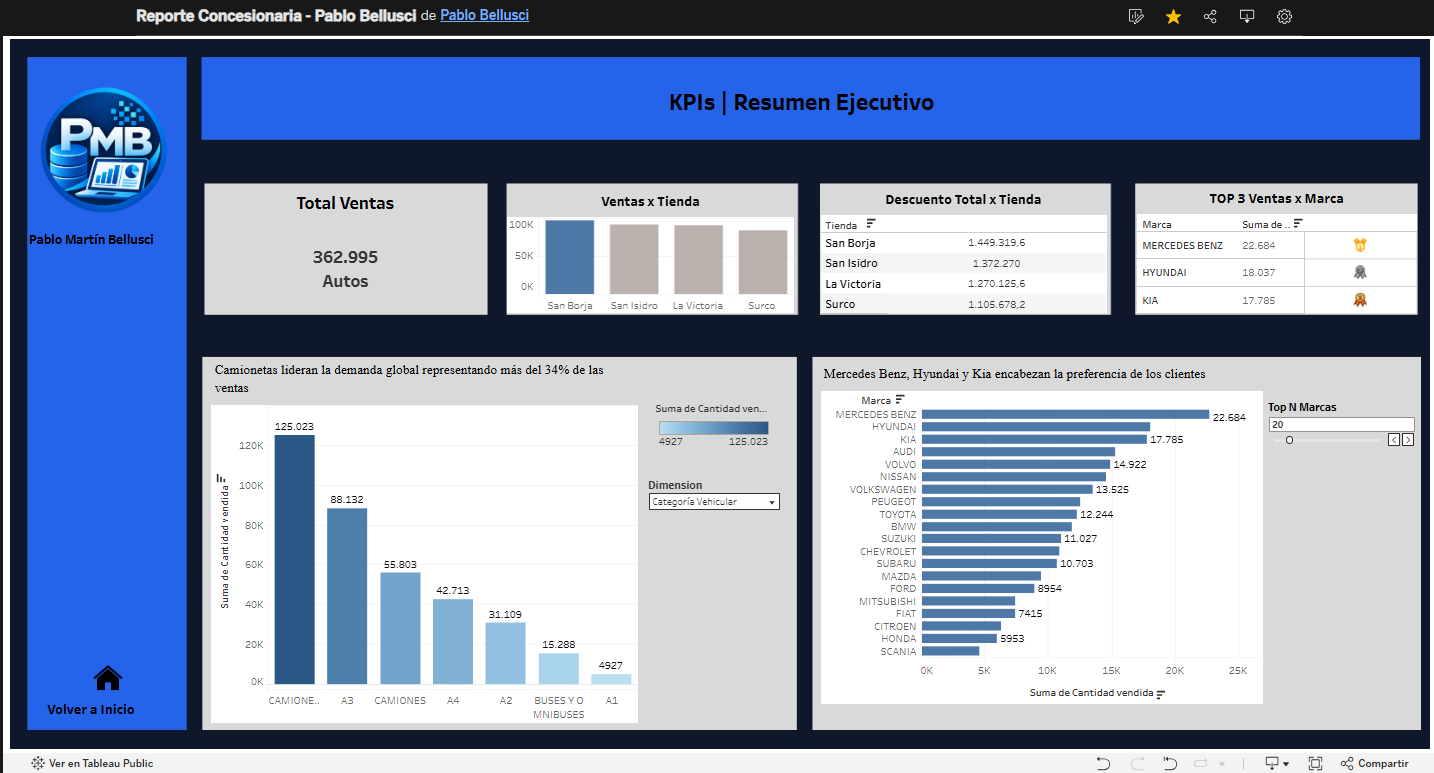

The page's visual inventory and layout, read from the dashboard file:
{"tool":"tableau","page":{"name":"KPIs/Resumen Ejecutivo","canvas":[1720,860],"ordinal":2},"visuals":[{"type":"image","param":"Image/Group 3.png","box":[0,0,1720,860]},{"type":"image","param":"Image/Logo PMB Azulado sin fondo.png","box":[40,55,169,163]},{"type":"text","box":[380,56,1156,45]},{"type":"worksheet","title":"Case Ranking","mark":"Shape","rows":["MARCA","Cantidad vendida"],"box":[1361,176,336,158]},{"type":"worksheet","title":"Desc. Total x Tienda","mark":"Automatic","rows":["TIENDA"],"box":[981,177,344,157]},{"type":"worksheet","title":"KPI Ventas","mark":"Automatic","box":[250,182,337,154]},{"type":"worksheet","title":"Ventas x Tienda","mark":"Automatic","rows":["Cantidad vendida"],"cols":["TIENDA"],"box":[608,182,344,153]},{"type":"text","box":[31,232,223,21]},{"type":"worksheet","title":"Parametros Cat.","mark":"Automatic","rows":["Cantidad vendida"],"cols":["Calculation_1080045115854849"],"box":[250,384,512,440]},{"type":"worksheet","title":"Parametros N","mark":"Automatic","rows":["MARCA"],"cols":["Cantidad vendida"],"box":[981,389,531,435]},{"type":"parameter","param":"[Parameters].[Parámetro 0688894604242945]","box":[1518,436,178,71]},{"type":"legend","title":"Parametros Cat.","param":"[federated.1di2xul0snxk3f14lpemy1rxo0c5].[sum:Cantidad vendida:qk]","box":[783,438,140,71]},{"type":"parameter","param":"[Parameters].[Parámetro 1080045115379712]","box":[774,529,160,48]},{"type":"dashboard-object","box":[104,751,44,38]},{"type":"text","box":[53,792,140,30]}]}

Visuals, with their boxes on the page's 1720x860 design canvas (x1, y1, x2, y2). These are canvas units, not pixel positions in the 1434x773 screenshot, which may show the page scaled, cropped or inside an application window:
image: [0,0,1720,860]
image: [40,55,209,218]
text: [380,56,1536,101]
"Case Ranking" worksheet (Shape marks): [1361,176,1697,334]
"Desc. Total x Tienda" worksheet: [981,177,1325,334]
"KPI Ventas" worksheet: [250,182,587,336]
"Ventas x Tienda" worksheet: [608,182,952,335]
text: [31,232,254,253]
"Parametros Cat." worksheet: [250,384,762,824]
"Parametros N" worksheet: [981,389,1512,824]
parameter: [1518,436,1696,507]
"Parametros Cat." legend: [783,438,923,509]
parameter: [774,529,934,577]
dashboard-object: [104,751,148,789]
text: [53,792,193,822]
